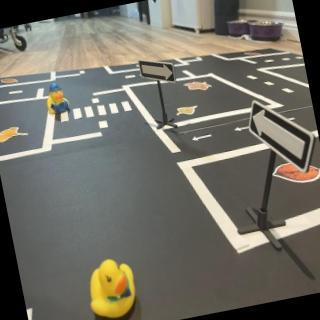duck_regular: (81, 252, 143, 320)
duck_specialty: (43, 79, 73, 118)
road_crosswalk: (57, 95, 135, 128)
road_oneway: (191, 129, 214, 144), (231, 121, 253, 136), (313, 271, 320, 294)
sign_oneway_left: (245, 93, 320, 180)
sign_oneway_right: (138, 56, 178, 89)
